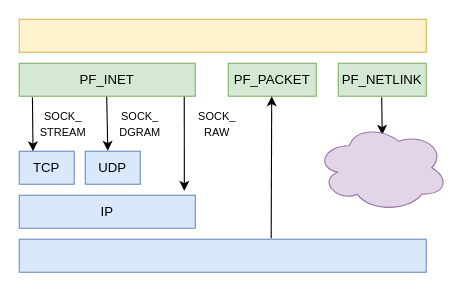
Some shapes in this 468 by 292 pixel diagram are drawn without their labels. The shapes that lost their labels are listed below. From the top down, each one's centre as x and y in pixels, then its label:
At pixel 222 35: "socket API".
At pixel 381 167: "Kernel controls".
At pixel 222 255: "Device".
